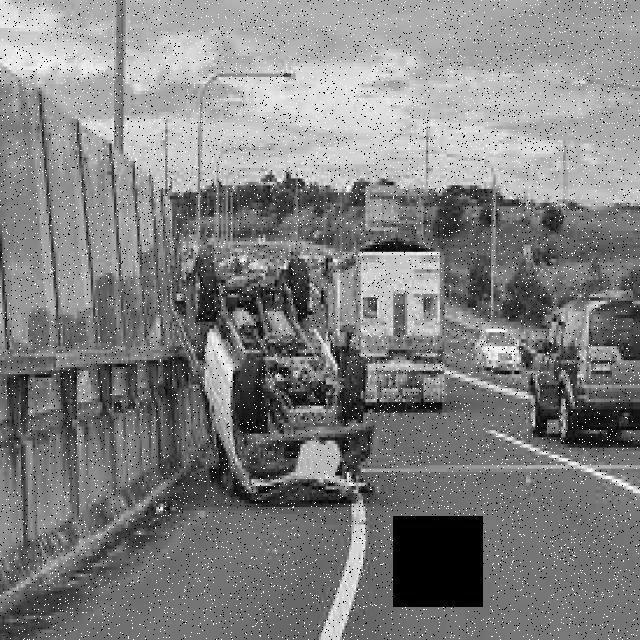accident: (174, 222, 374, 499)
vehicle: (327, 249, 451, 417), (526, 294, 640, 443), (465, 310, 529, 384)
